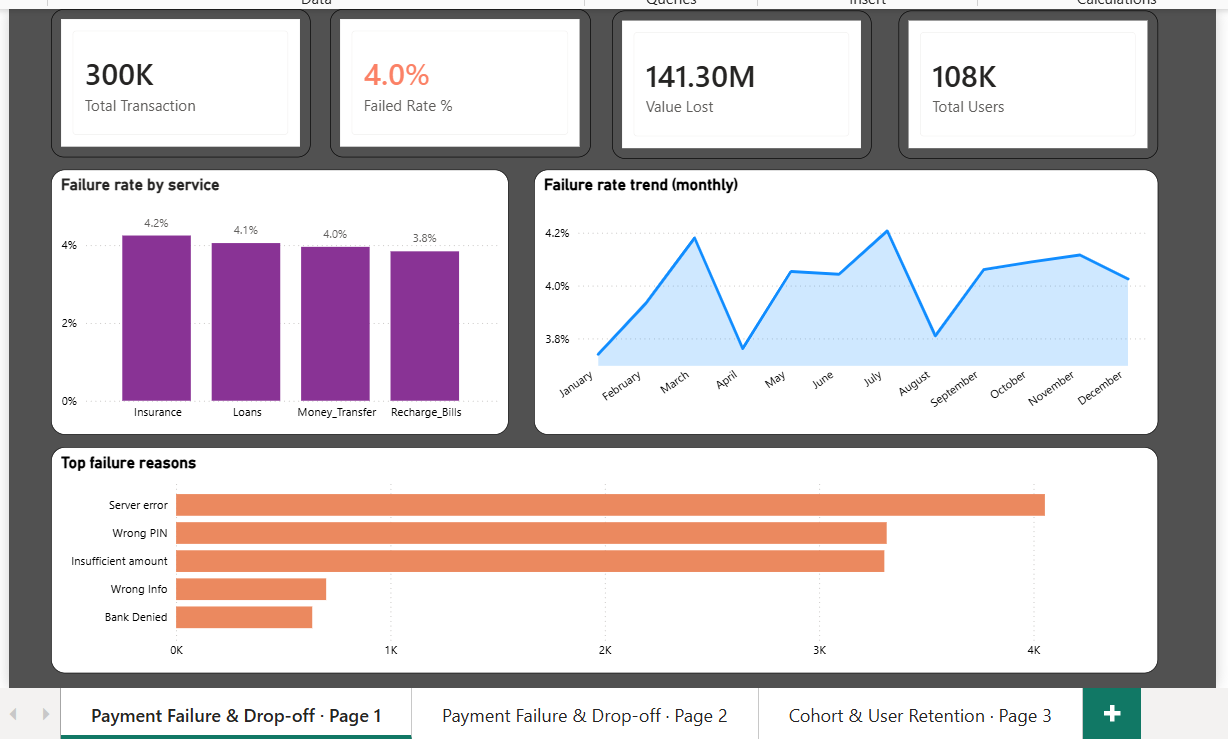

What the dashboard file says about the page in this screenshot:
{"tool":"powerbi","page":{"name":"Payment Failure & Drop-off · Page 1","canvas":[1280,720],"ordinal":0},"visuals":[{"type":"cardVisual","fields":{"Data":["FACT_TRANSACTIONS.Total Transaction"]},"box":[44.5,0,275.2,157.5],"z":0},{"type":"cardVisual","fields":{"Data":["FACT_TRANSACTIONS.Failed Rate %"]},"box":[340.4,0,276.8,157.5],"z":1000},{"type":"cardVisual","fields":{"Data":["FACT_TRANSACTIONS.Value Lost"]},"box":[639.4,1.6,275.2,157.5],"z":2000},{"type":"cardVisual","fields":{"Data":["FACT_TRANSACTIONS.Total Users"]},"box":[943.2,1.6,275.2,157.5],"z":3000},{"type":"columnChart","title":"Failure rate by service","fields":{"Y":["FACT_TRANSACTIONS.Failed Rate %"],"Category":["FACT_TRANSACTIONS.SERVICE"]},"box":[44.5,170.2,485.1,281.5],"z":4000},{"type":"lineChart","title":"Failure rate trend (monthly)","fields":{"Category":["FACT_TRANSACTIONS.DATE.Variation.Date Hierarchy.Month"],"Y":["FACT_TRANSACTIONS.Failed Rate %"]},"box":[556.7,170.2,661.7,281.5],"z":5000},{"type":"barChart","title":"Top failure reasons","fields":{"Category":["VW_FAILURE_BY_REASON.REASON"],"Y":["Sum(VW_FAILURE_BY_REASON.FAILURE_COUNT)"]},"box":[44.5,464.5,1173.9,240.2],"z":6000}]}

Visuals, with their boxes on the page's 1280x720 design canvas (x1, y1, x2, y2). These are canvas units, not pixel positions in the 1228x739 screenshot, which may show the page scaled, cropped or inside an application window:
cardVisual - FACT_TRANSACTIONS.Total Transaction: (44, 0, 320, 158)
cardVisual - FACT_TRANSACTIONS.Failed Rate %: (340, 0, 617, 158)
cardVisual - FACT_TRANSACTIONS.Value Lost: (639, 2, 915, 159)
cardVisual - FACT_TRANSACTIONS.Total Users: (943, 2, 1218, 159)
"Failure rate by service" columnChart: (44, 170, 530, 452)
"Failure rate trend (monthly)" lineChart: (557, 170, 1218, 452)
"Top failure reasons" barChart: (44, 464, 1218, 705)
